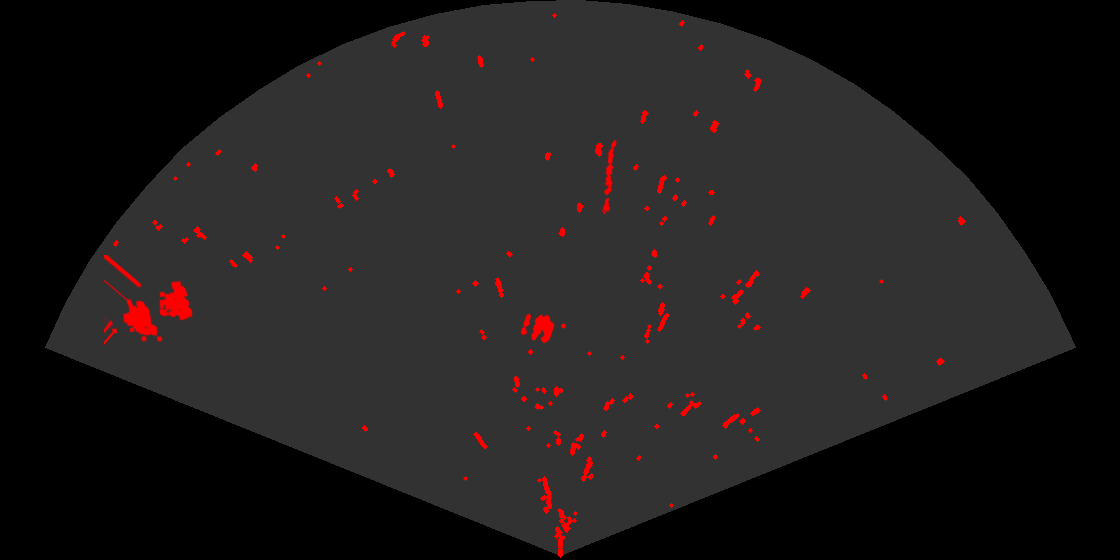ball: (519, 312, 556, 345)
cage: (104, 255, 194, 347)
chain: (600, 138, 619, 212)
